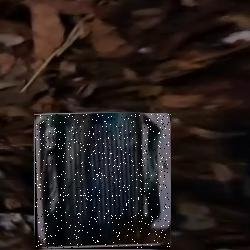restaffald: (35, 113, 170, 249)
